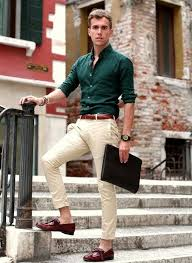F_belt: (74, 107, 119, 127)
